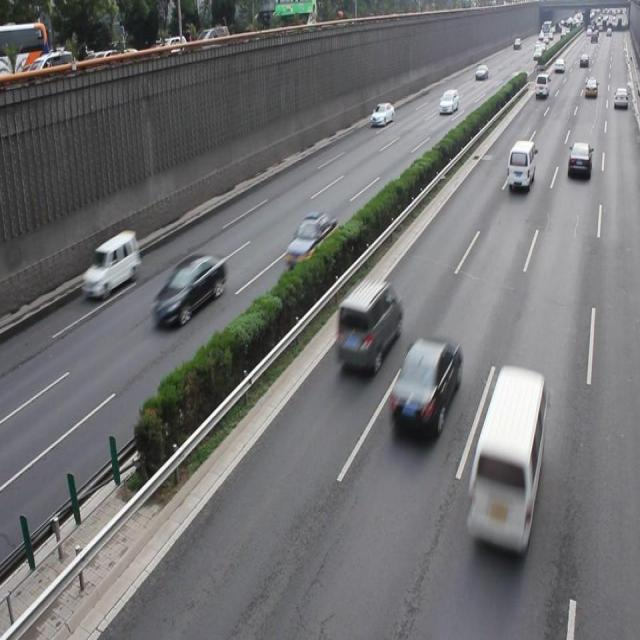car: (387, 333, 459, 436), (335, 279, 401, 372), (150, 250, 225, 326), (81, 230, 140, 297), (284, 212, 336, 267), (566, 142, 589, 180)
truck: (466, 367, 544, 550), (506, 139, 534, 190)
